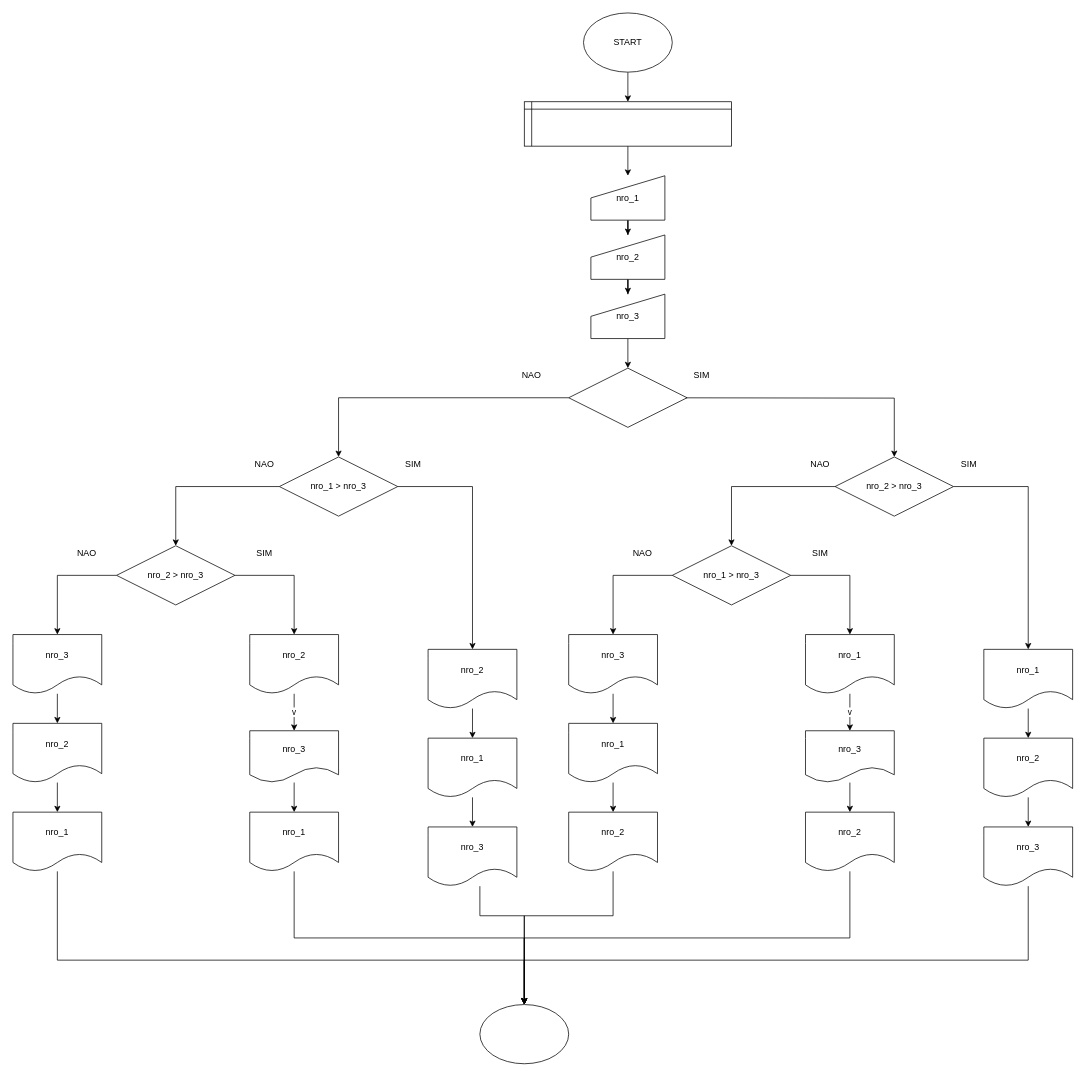
Image size: 1086x1077. Some labels were removed from this diagram. Each missing label, with the box of its shape:
END: (479, 1004, 569, 1064)
nro_1 > nro_2: (568, 367, 687, 427)
nro_1, nro_2, nro_3: (524, 101, 731, 146)
